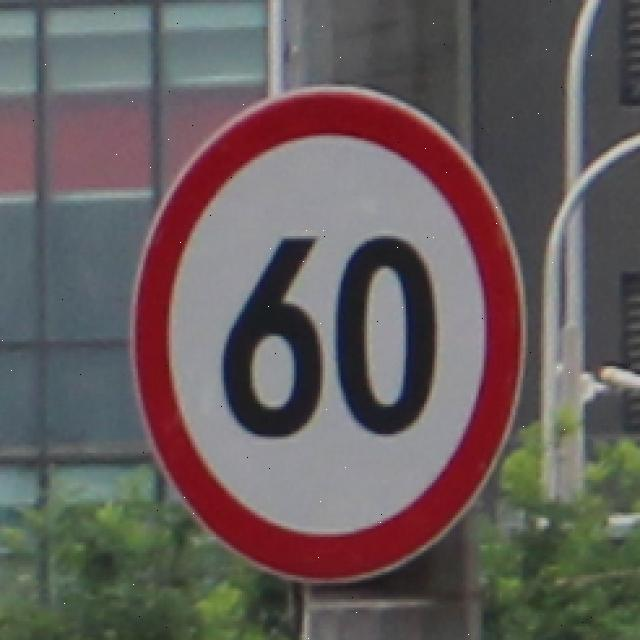speed limit 60: (133, 88, 526, 584)
